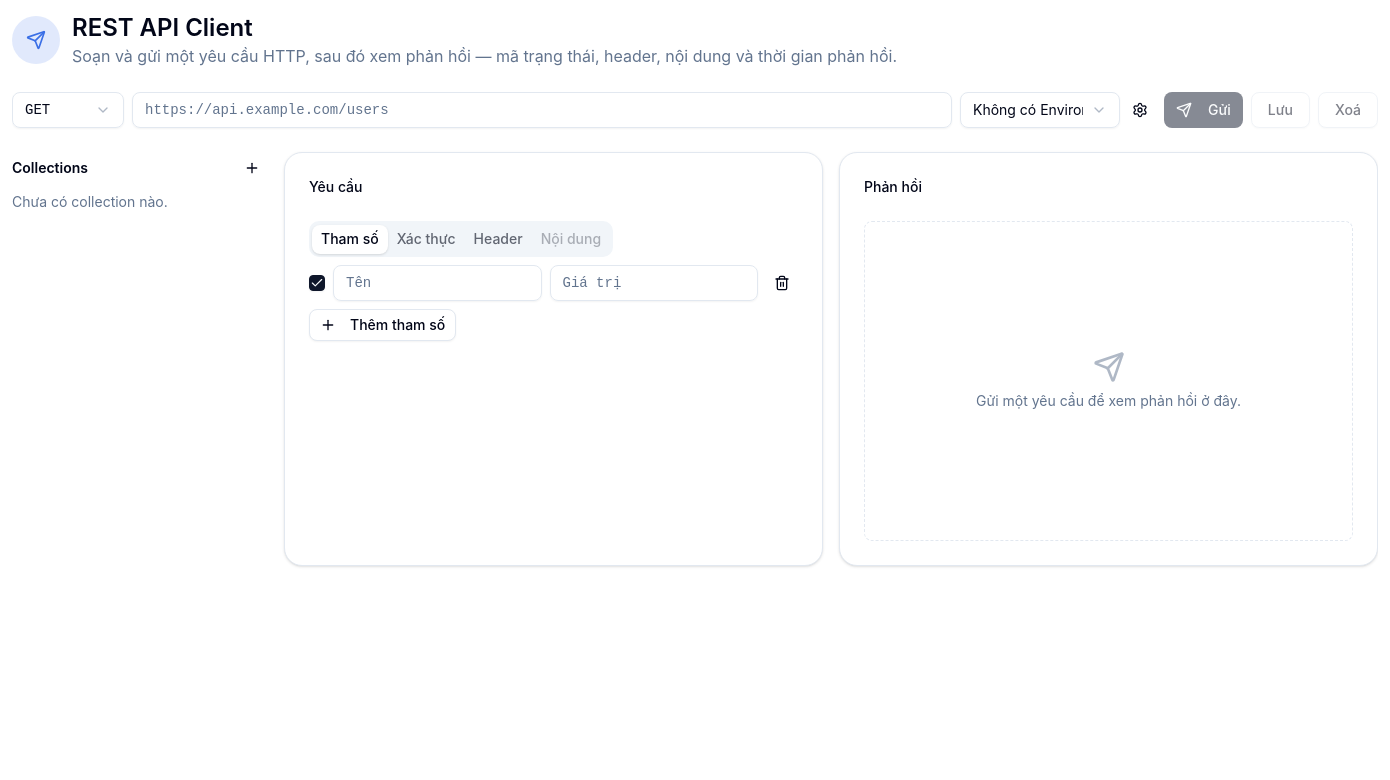
Test: RestApiClientScreen › sends a request and displays the response
Type "https://api.example.com" into the field named "URL yêu cầu".
click(542, 110); type("https://api.example.com")  # box x1=132 y1=92 x2=952 y2=128
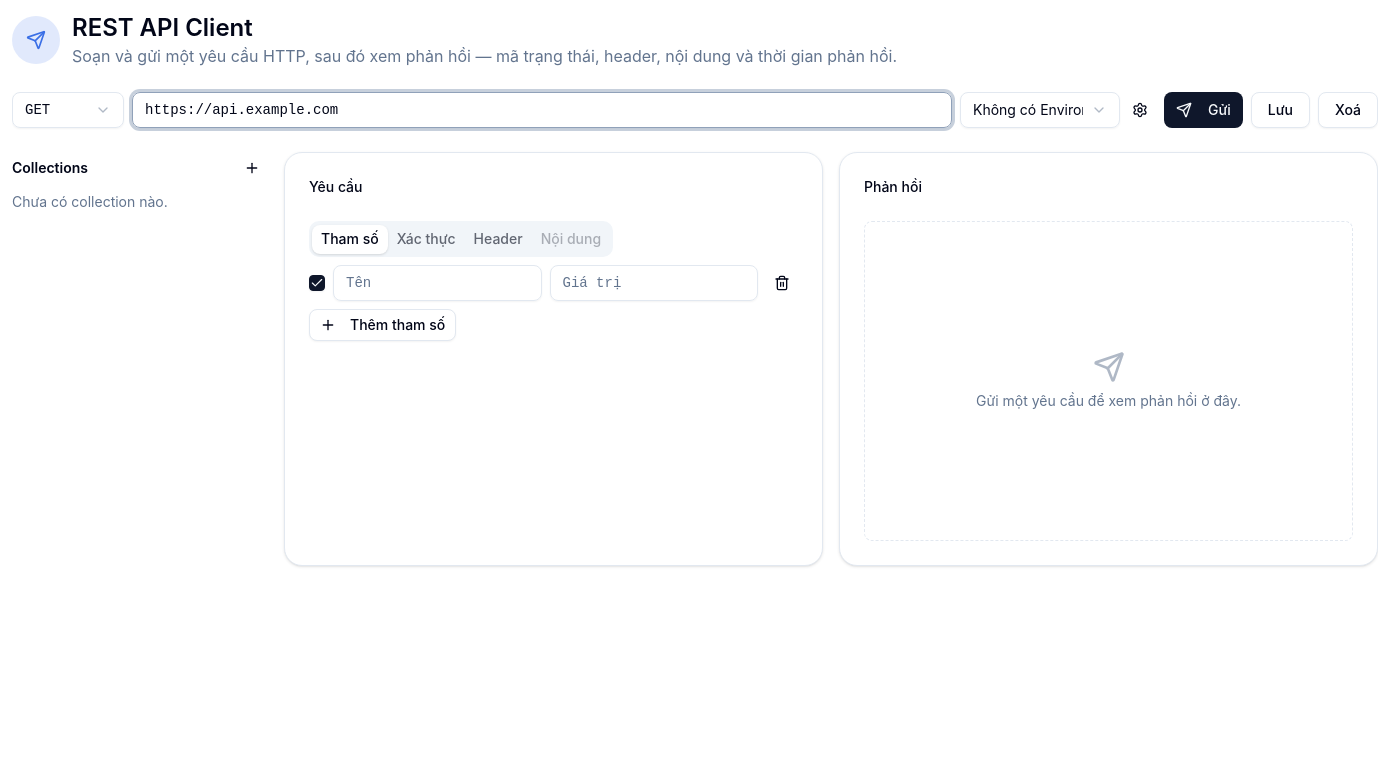
Click the button "Gửi".
click(1203, 110)  # box x1=1164 y1=92 x2=1243 y2=128
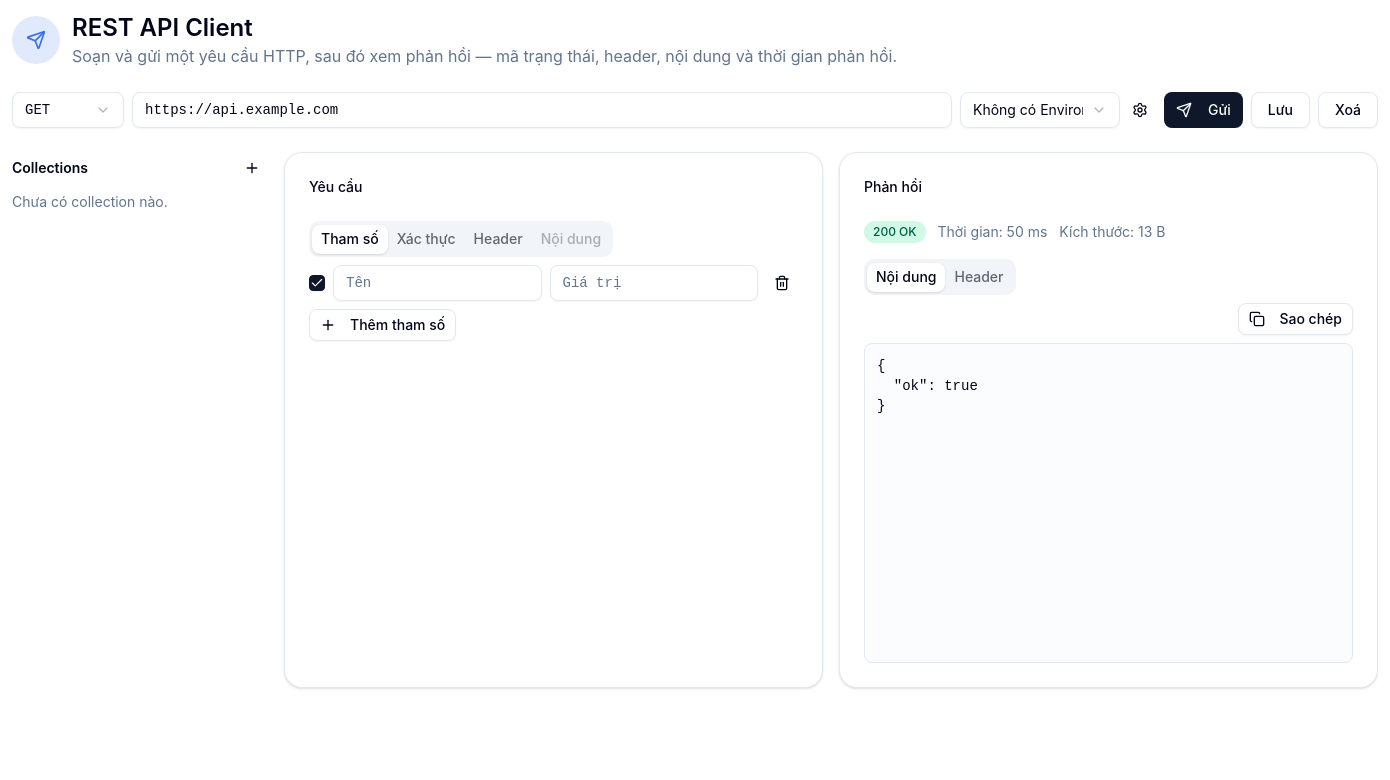
expect the text "200 OK" is shown: met, box x1=864 y1=221 x2=926 y2=243
